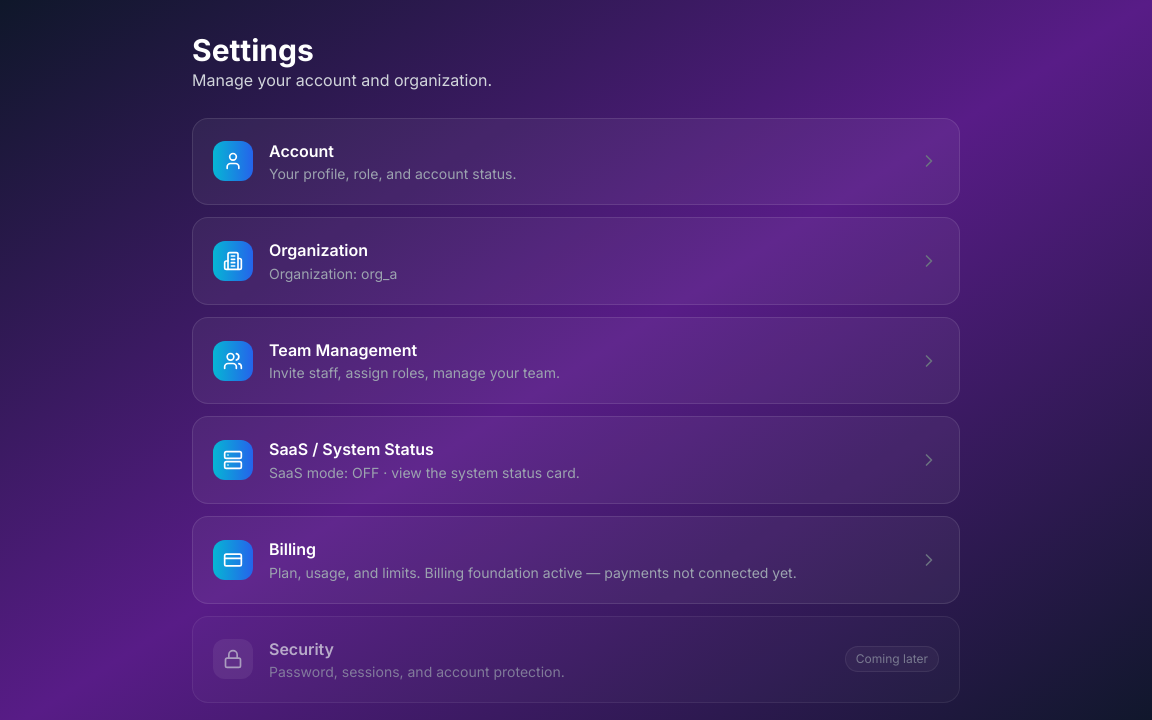
Test: Settings → Billing link › routes the Billing card to the billing page
Click the link "Billing" at x=233, y=560, box [192,516,960,604]
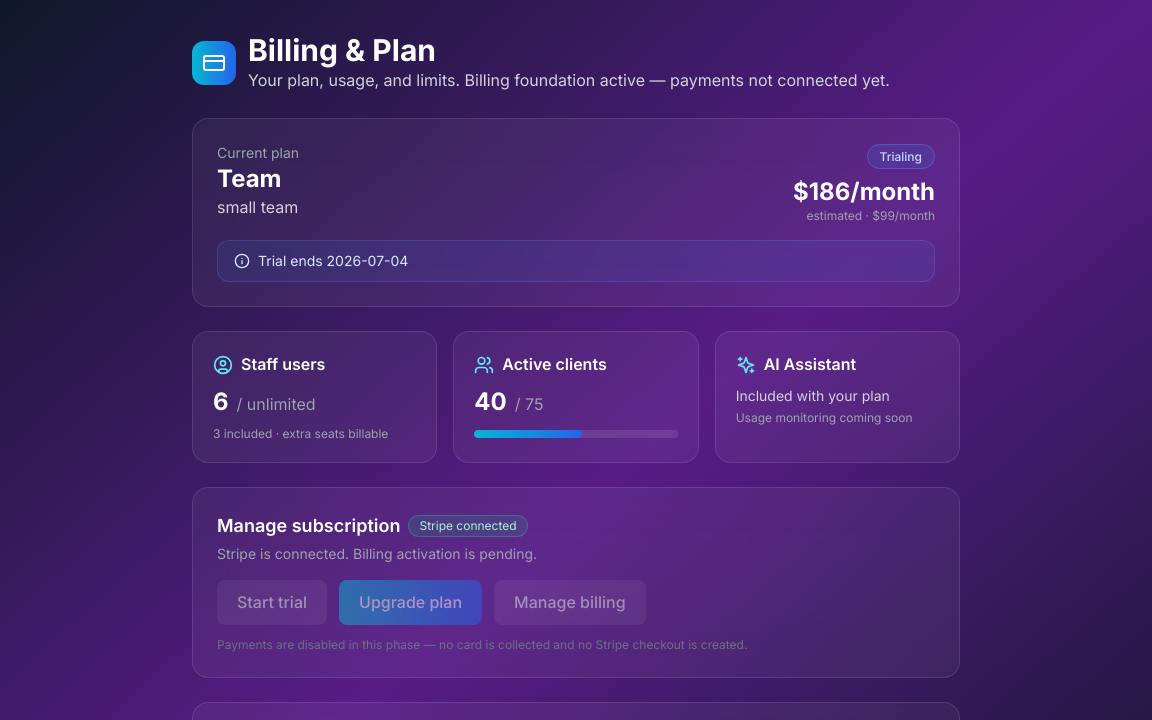
Expected: the heading "Team" is shown, [217,164,282,193]
